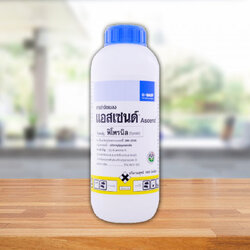Insecticide: (85, 20, 162, 225)
